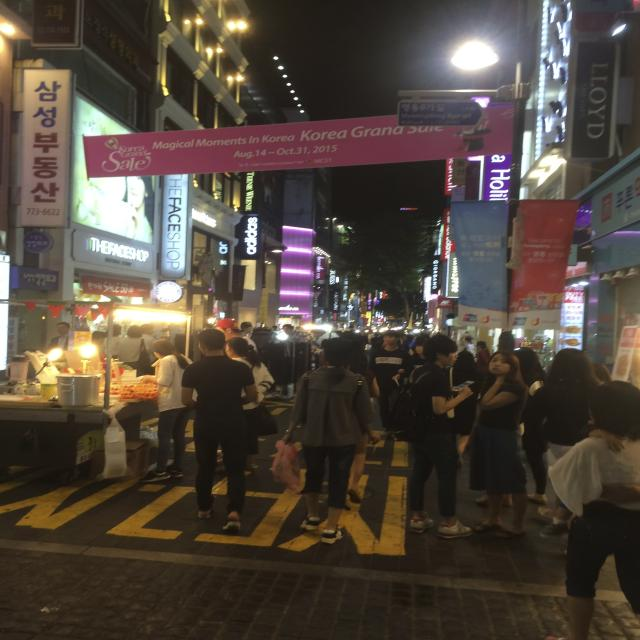body: (535, 378, 640, 640), (266, 339, 384, 546), (386, 331, 478, 540), (178, 328, 262, 535), (525, 348, 610, 528), (467, 350, 530, 538), (135, 338, 201, 483), (224, 336, 277, 472), (345, 352, 383, 504), (514, 348, 551, 503), (79, 162, 152, 240), (368, 329, 414, 432), (444, 350, 482, 465), (119, 324, 151, 378), (322, 325, 384, 349), (212, 317, 276, 338), (138, 323, 159, 376), (44, 322, 72, 354), (304, 326, 322, 373), (396, 327, 434, 349), (102, 323, 123, 360), (412, 338, 432, 365), (491, 329, 519, 348), (90, 330, 108, 357), (593, 360, 613, 384), (475, 340, 491, 363), (464, 336, 476, 355), (281, 324, 295, 335)
